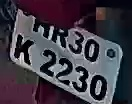0: (89, 71, 109, 103), (84, 36, 100, 65)
2: (38, 45, 56, 79), (56, 55, 72, 87)
3: (73, 64, 88, 94), (69, 30, 83, 56)
H: (32, 14, 52, 41)
K: (12, 31, 36, 69)
R: (53, 24, 68, 49)
